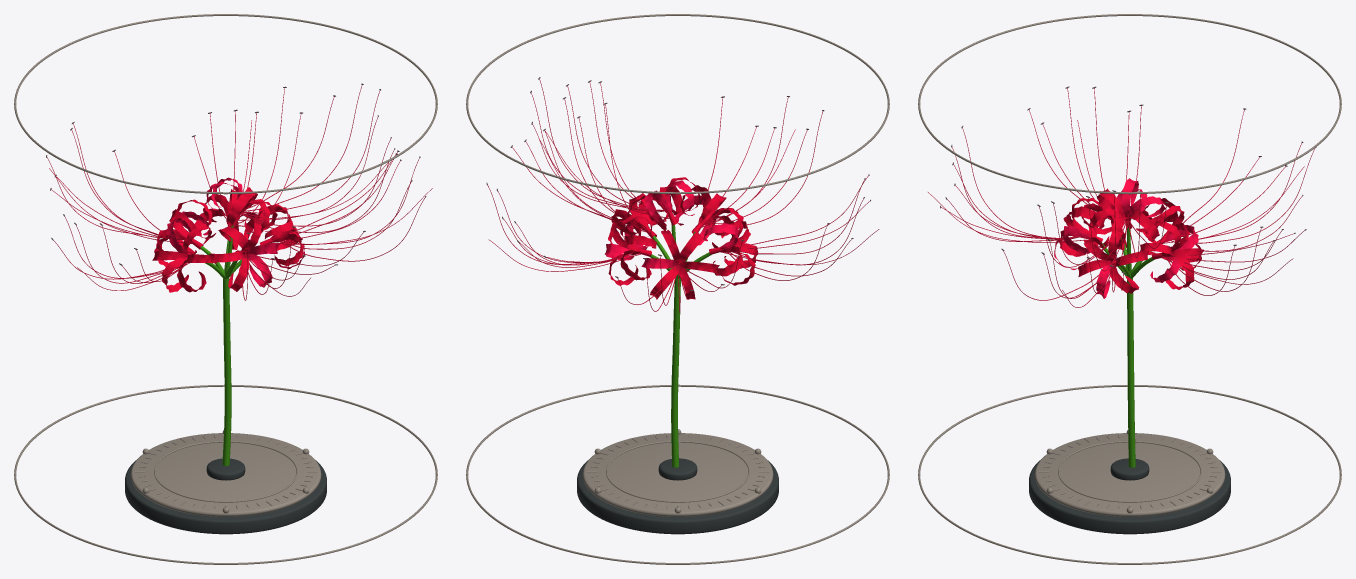
Rendered from lycoris-specimen.glb.
The picture shows the model from 3 angles, left to right: view 1: azimuth 30°, elevation 25°; view 2: azimuth 150°, elevation 25°; view 3: azimuth 270°, elevation 25°; orthographic projection.
Parts seen in each view (by area): view 1: base__Brushed_Champagne.005, petals__Vermilion_Petals.005, stamens__Crimson_Filaments.005, chamber__Brushed_Champagne.005, base__Graphite_Titanium.005, petals__Scarlet_Edge.005, stem__Living_Green_Scape.004; view 2: base__Brushed_Champagne.005, petals__Vermilion_Petals.005, stamens__Crimson_Filaments.005, chamber__Brushed_Champagne.005, base__Graphite_Titanium.005, petals__Scarlet_Edge.005, stem__Living_Green_Scape.004; view 3: base__Brushed_Champagne.005, petals__Vermilion_Petals.005, stamens__Crimson_Filaments.005, chamber__Brushed_Champagne.005, base__Graphite_Titanium.005, petals__Scarlet_Edge.005, stem__Living_Green_Scape.004.
Boxes of the visible parts, x1,y1,x2,y2 form: base__Brushed_Champagne.005: (130,430,321,516); petals__Vermilion_Petals.005: (152,187,303,292); stamens__Crimson_Filaments.005: (47,85,432,300); chamber__Brushed_Champagne.005: (14,14,437,564); base__Graphite_Titanium.005: (125,458,326,534); petals__Scarlet_Edge.005: (166,177,304,287); stem__Living_Green_Scape.004: (222,278,231,465); base__Brushed_Champagne.005: (582,429,773,516); petals__Vermilion_Petals.005: (608,177,758,299); stamens__Crimson_Filaments.005: (487,79,879,312); chamber__Brushed_Champagne.005: (466,14,889,564); base__Graphite_Titanium.005: (577,458,778,534); petals__Scarlet_Edge.005: (604,180,739,268); stem__Living_Green_Scape.004: (671,278,680,467); base__Brushed_Champagne.005: (1034,430,1225,516); petals__Vermilion_Petals.005: (1059,188,1204,293); stamens__Crimson_Filaments.005: (928,88,1315,307); chamber__Brushed_Champagne.005: (918,14,1341,564); base__Graphite_Titanium.005: (1029,458,1230,534); petals__Scarlet_Edge.005: (1054,178,1198,298); stem__Living_Green_Scape.004: (1127,278,1135,467).
Size of what is drawn, in the model's own units: 4.4 by 4.46 by 4.4.
